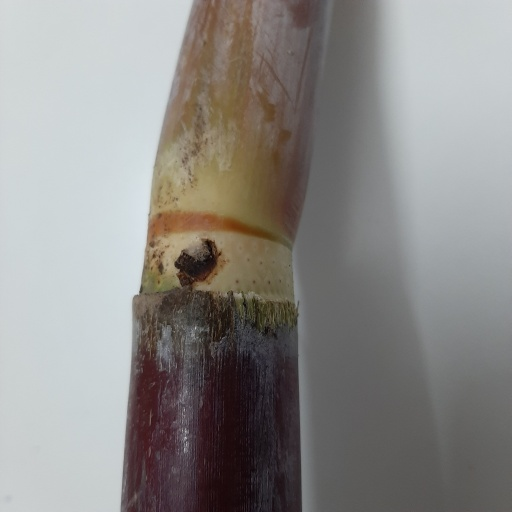Damage_Bud: (176, 237, 220, 289)
